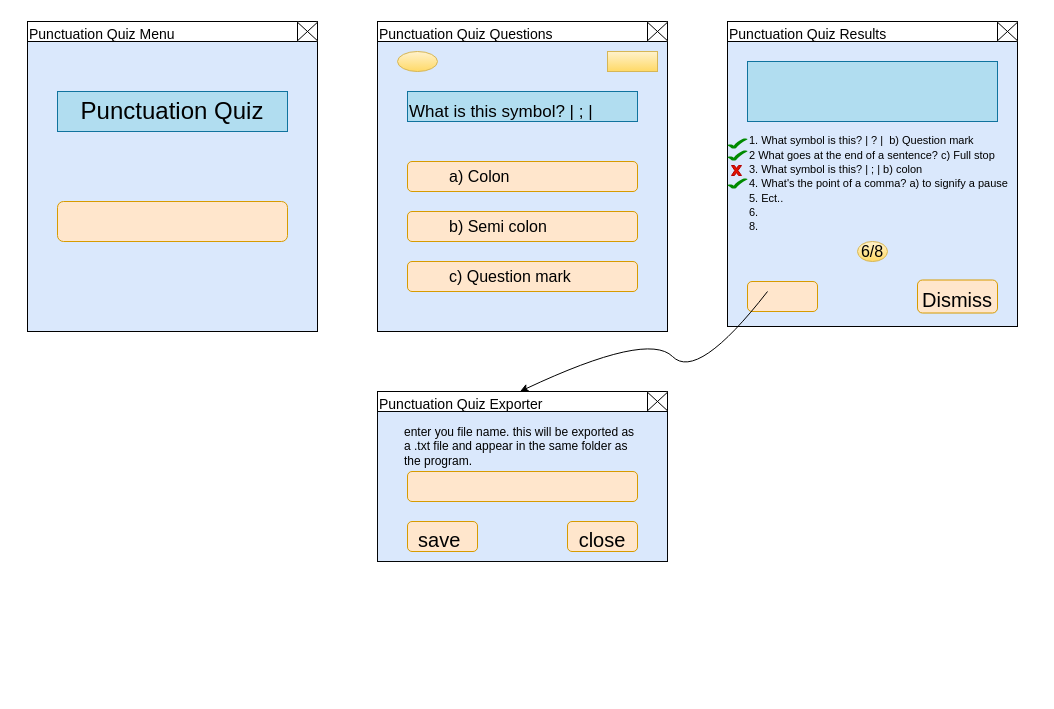
Some shapes in this 1054 by 709 pixel diagram are drawn without their labels. The centre of each missing label's shape, as x and y in pixels:
"All done! Here are your results" belongs at pixel 872 91.
"Export" belongs at pixel 782 296.
"Q1/8" belongs at pixel 417 61.
"Score:" belongs at pixel 632 61.
"Start Quiz" belongs at pixel 172 221.
